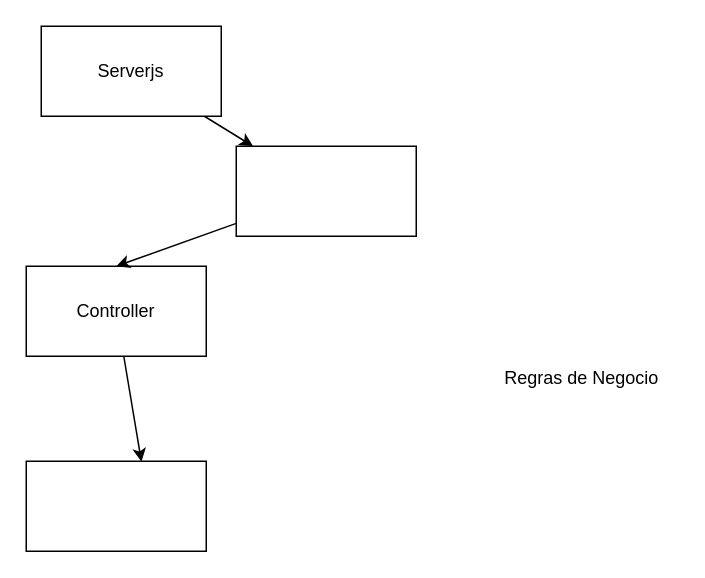
Image size: 705x578. Some labels were removed from this diagram. The centre of each missing label's shape, as x and y in pixels:
"Model" goes at point 115,505.
"Routes" goes at point 325,190.
